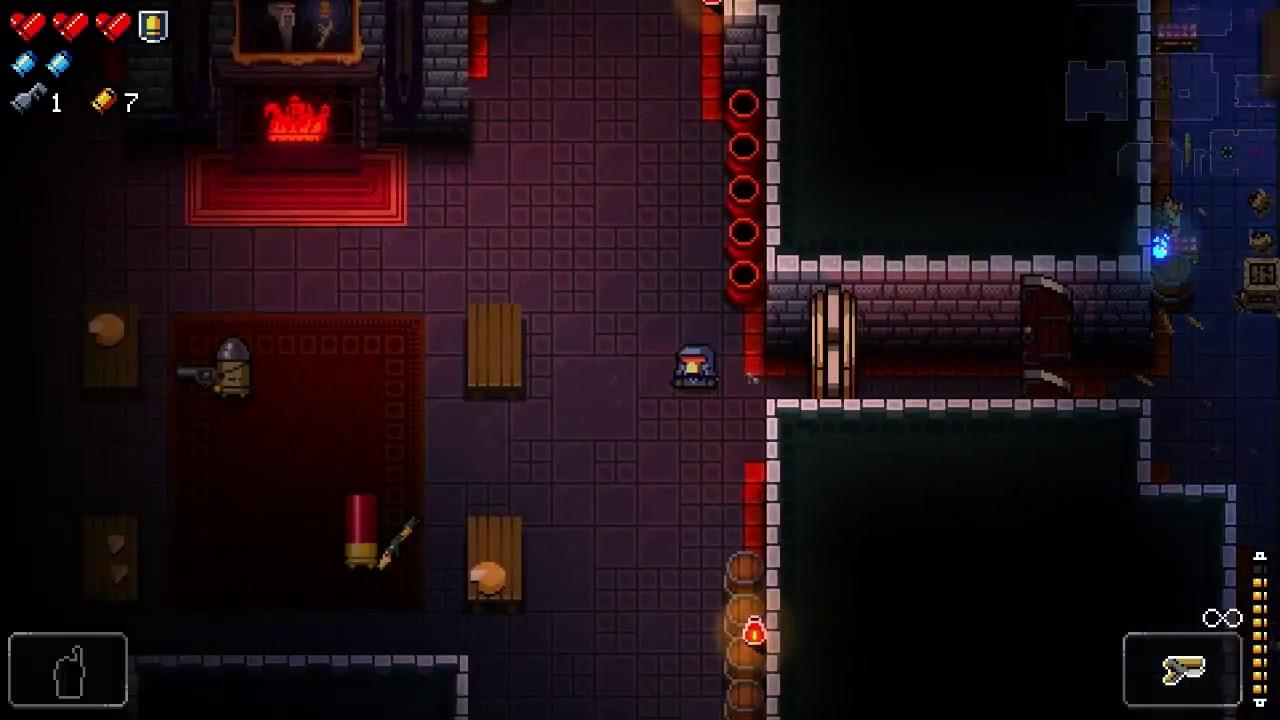locked_door: (808, 286, 858, 399)
player: (673, 344, 723, 393)
red_shotgun_kin: (344, 492, 378, 570)
table: (82, 300, 139, 400), (82, 517, 139, 609), (468, 302, 522, 399), (468, 516, 522, 612)
unlocked_door: (1021, 274, 1073, 398)
veteran_bullet_kin: (217, 335, 250, 399)
